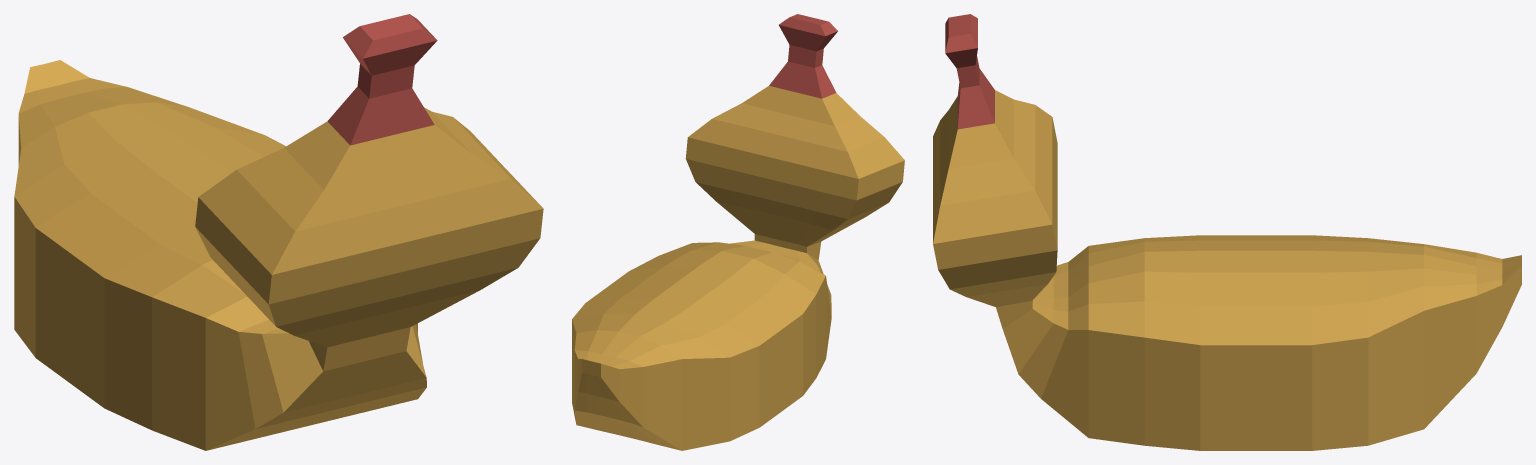
Rendered from Laumania_Prop_RubberDuck.fbx.
3 renders of one model, left to right at view 1: azimuth 30°, elevation 25°; view 2: azimuth 150°, elevation 25°; view 3: azimuth 270°, elevation 25°, orthographic. The views are drawn at different scales.
Visible parts, largest first — view 1: Laumania_Prop_RubberDuck; view 2: Laumania_Prop_RubberDuck; view 3: Laumania_Prop_RubberDuck.
Boxes of the visible parts, bbox=[...] form: Laumania_Prop_RubberDuck: bbox=[14, 14, 543, 450]; Laumania_Prop_RubberDuck: bbox=[572, 14, 904, 450]; Laumania_Prop_RubberDuck: bbox=[933, 14, 1521, 450].
Bounding box in the file's own units: 0.1075 × 0.1698 × 0.2436.
